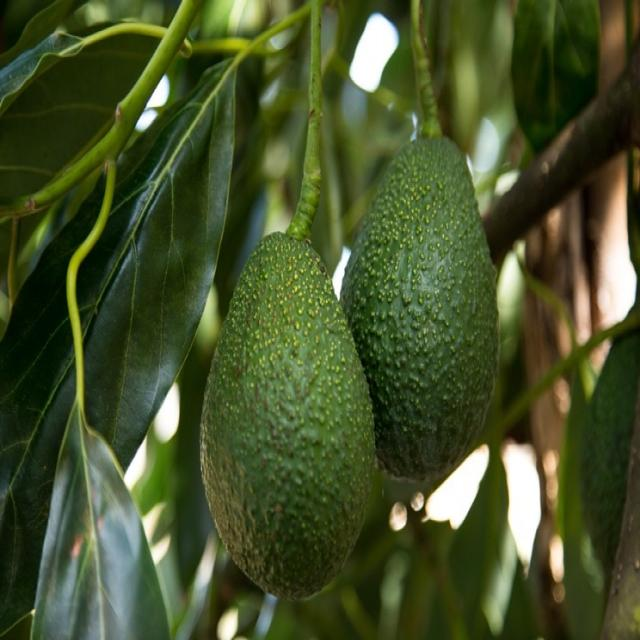avocado: (196, 229, 372, 605), (345, 139, 498, 483)
